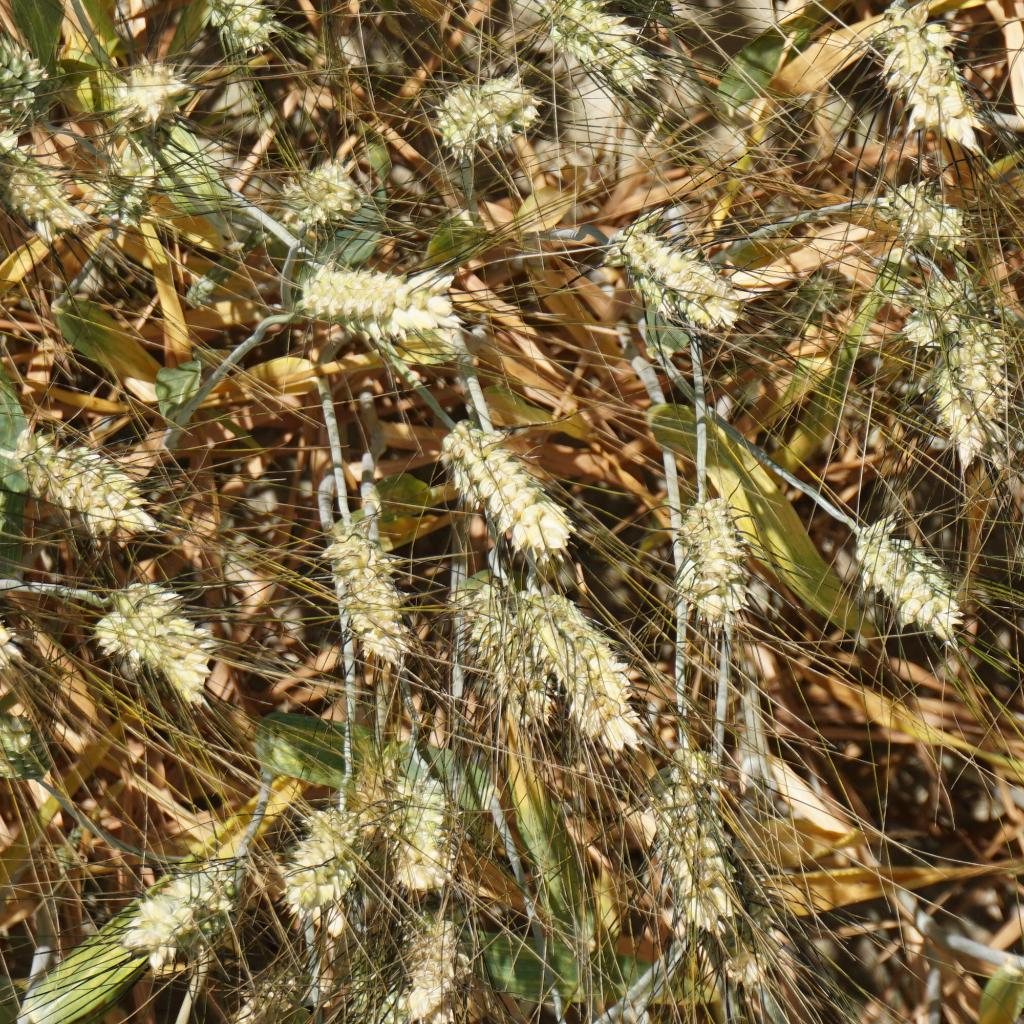0-0: (519, 579, 642, 768), (446, 418, 581, 583), (66, 561, 218, 700), (645, 743, 742, 943), (2, 420, 147, 550), (619, 211, 747, 350), (437, 570, 550, 727), (294, 248, 463, 352), (318, 504, 424, 668), (879, 11, 986, 164), (847, 516, 982, 634), (104, 864, 234, 976), (922, 314, 1015, 467), (529, 0, 652, 98), (109, 47, 207, 150), (263, 156, 378, 239), (429, 68, 539, 149), (680, 494, 749, 623), (286, 800, 356, 918), (718, 865, 783, 987), (0, 152, 85, 243), (392, 774, 457, 893), (395, 911, 463, 1021), (880, 178, 974, 249), (188, 0, 286, 67), (88, 149, 156, 234), (901, 267, 973, 340), (345, 740, 400, 820), (0, 705, 54, 786), (342, 927, 388, 1022), (0, 19, 40, 128), (0, 546, 28, 674), (244, 961, 300, 1024), (49, 825, 88, 873), (603, 0, 679, 24), (180, 267, 220, 311)
